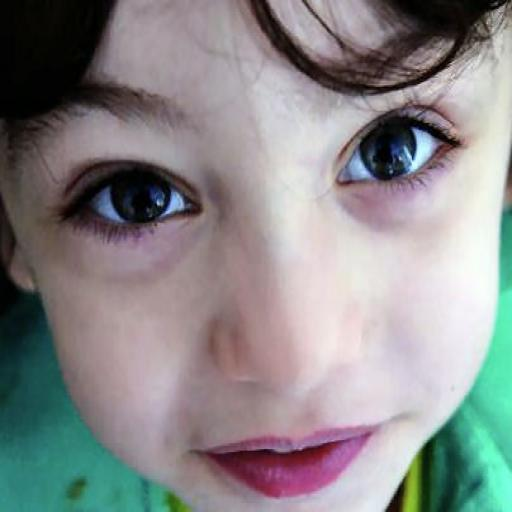Autism: (19, 6, 478, 505)
